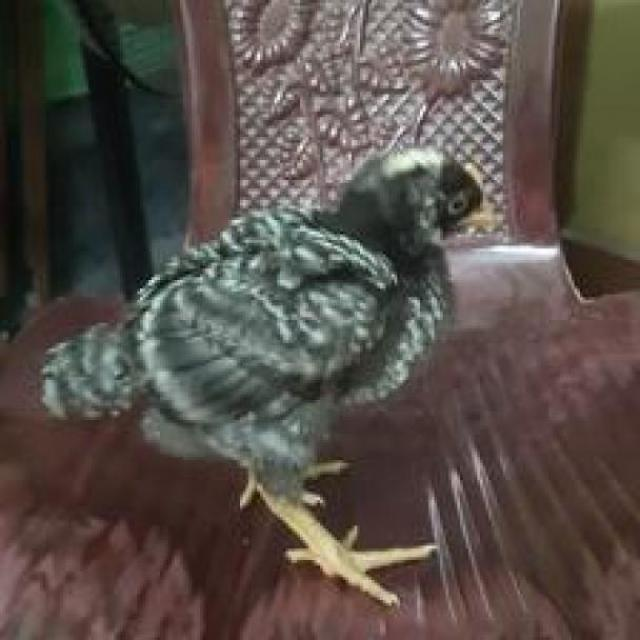Chicken: (45, 130, 510, 595)
